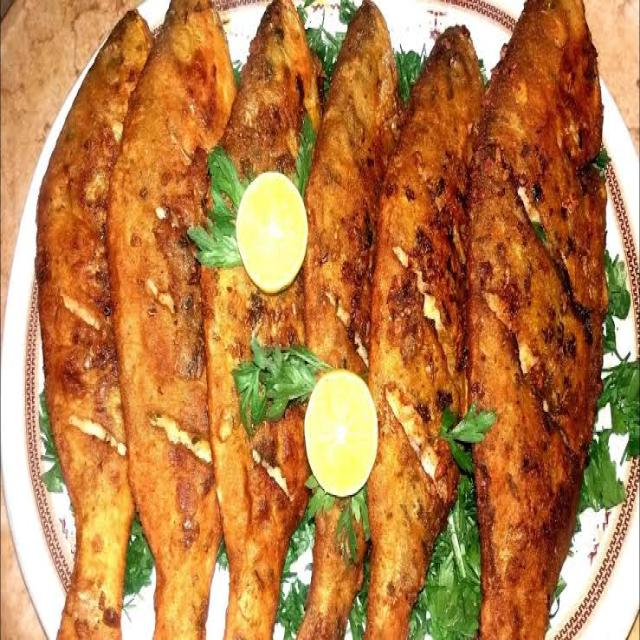Peixe: (33, 0, 610, 637), (464, 0, 609, 637), (105, 1, 236, 637), (194, 0, 324, 637), (34, 8, 154, 637), (363, 22, 484, 637), (294, 0, 402, 637)
